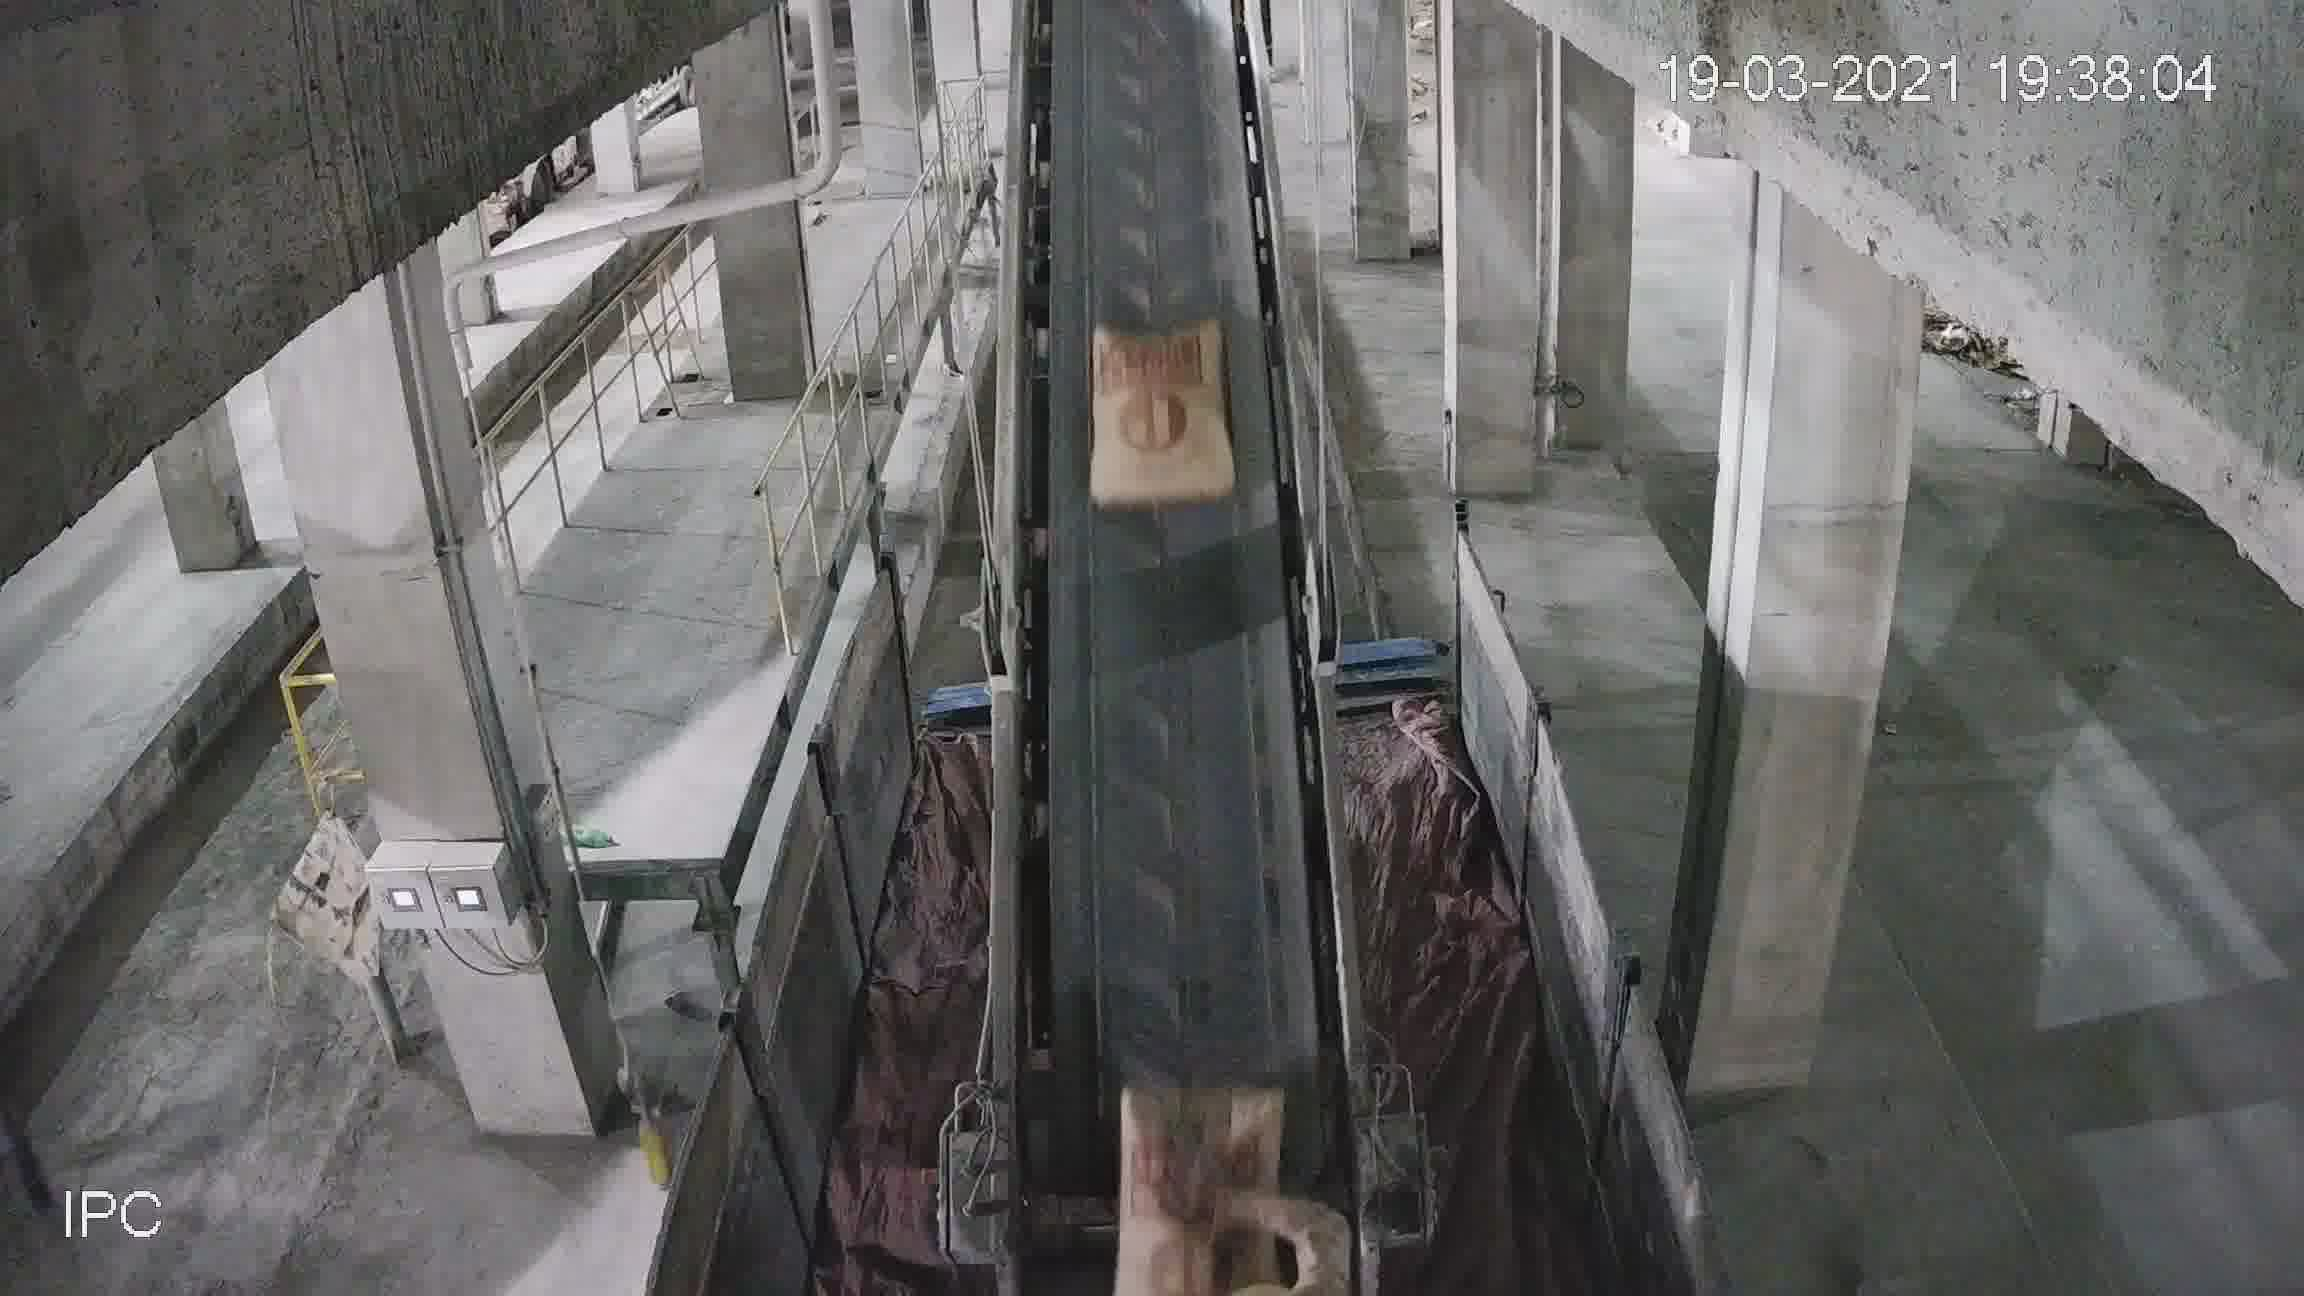bag: (1082, 324, 1230, 506), (1119, 1082, 1274, 1198)
belt: (1002, 25, 1343, 1074)
